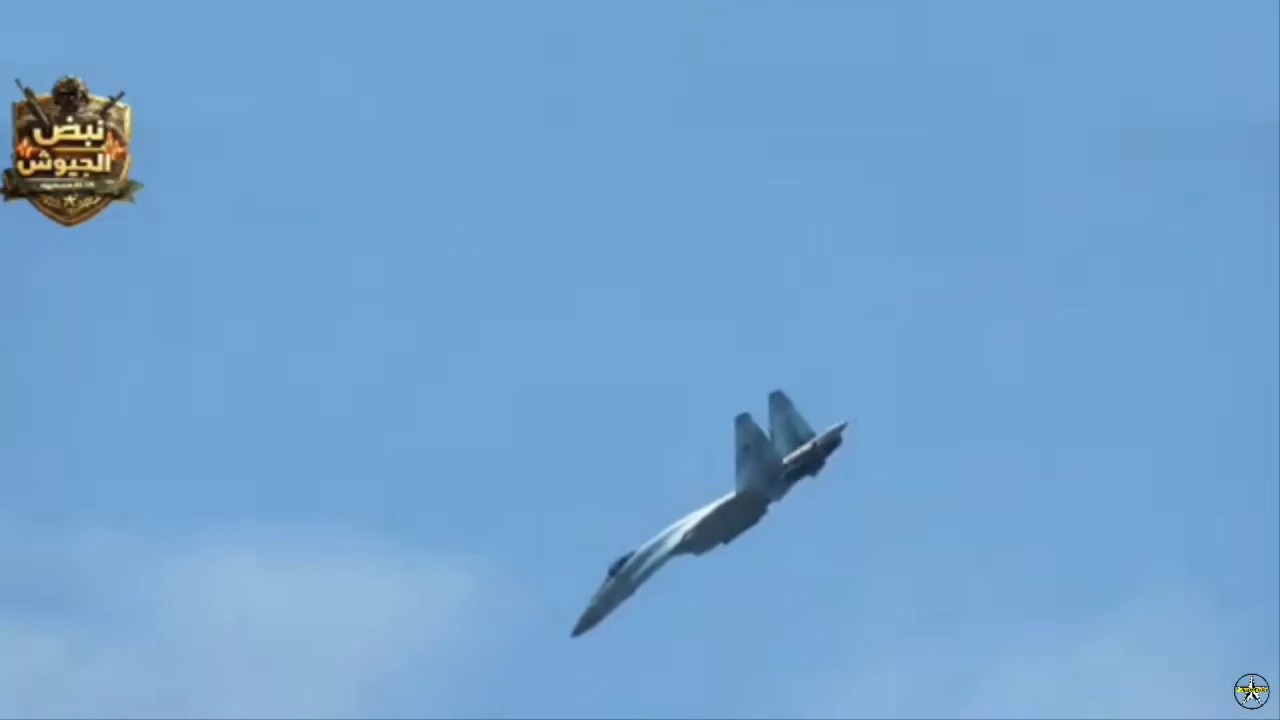Su35: (567, 381, 863, 647)
